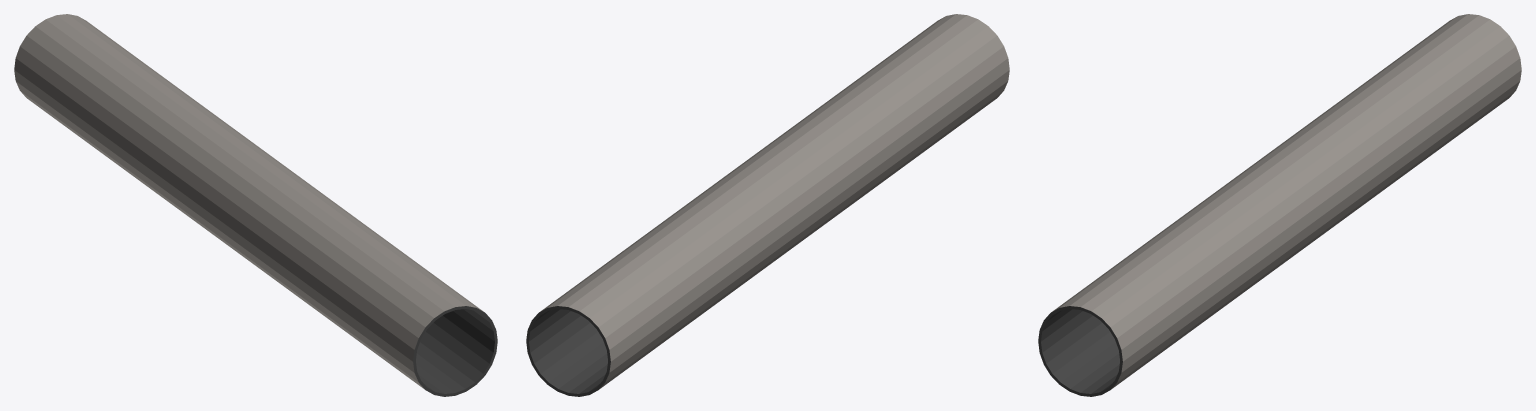
Rendered from tp-corkscrew-roll.glb.
3 views of the same model, side by side, from view 1: azimuth 30°, elevation 25°; view 2: azimuth 150°, elevation 25°; view 3: azimuth 330°, elevation 25° (orthographic).
Parts seen in each view (by area): view 1: tp-corkscrew-roll; view 2: tp-corkscrew-roll; view 3: tp-corkscrew-roll.
Boxes of the visible parts, bbox=[...] form: tp-corkscrew-roll: bbox=[14, 14, 497, 396]; tp-corkscrew-roll: bbox=[526, 14, 1009, 396]; tp-corkscrew-roll: bbox=[1038, 14, 1521, 396].
Size of what is drawn, in the model's own units: 15.31 by 15.31 by 125.
1 material, 1 textured.
